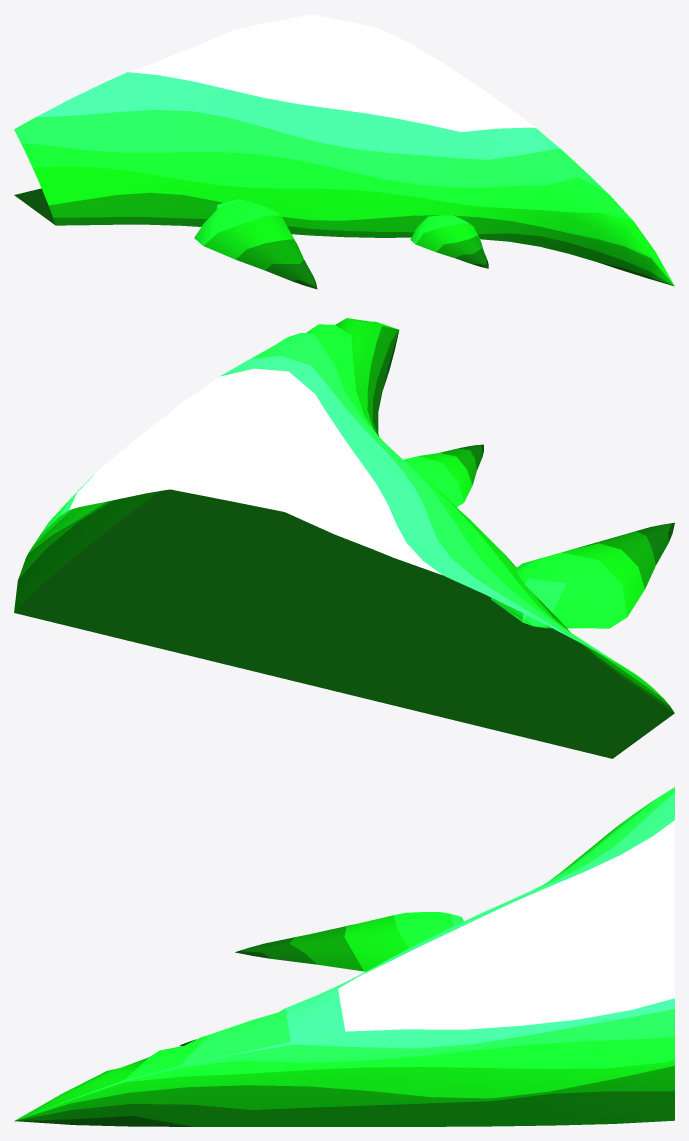
The model's file is shot_charge_b289.glb.
3 renders of one model, top to bottom at view 1: azimuth 30°, elevation 25°; view 2: azimuth 150°, elevation 25°; view 3: azimuth 270°, elevation 25°, orthographic. The views are drawn at different scales.
Visible parts, largest first — view 1: charge_great_wave_shot_charge_b289, charge_great_drip4_shot_charge_b289, charge_great_drip6_shot_charge_b289; view 2: charge_great_wave_shot_charge_b289, charge_great_drip4_shot_charge_b289, charge_great_drip6_shot_charge_b289; view 3: charge_great_wave_shot_charge_b289, charge_great_drip4_shot_charge_b289.
Part boxes in pixels (left/top/right/bottom): charge_great_wave_shot_charge_b289: left=14, top=14, right=674, bottom=286; charge_great_drip4_shot_charge_b289: left=194, top=199, right=317, bottom=289; charge_great_drip6_shot_charge_b289: left=410, top=215, right=488, bottom=268; charge_great_wave_shot_charge_b289: left=14, top=318, right=674, bottom=758; charge_great_drip4_shot_charge_b289: left=491, top=522, right=674, bottom=628; charge_great_drip6_shot_charge_b289: left=403, top=444, right=483, bottom=507; charge_great_wave_shot_charge_b289: left=14, top=787, right=674, bottom=1126; charge_great_drip4_shot_charge_b289: left=235, top=912, right=463, bottom=971.
Size of the model in its own units: 11 by 2.86 by 12.
